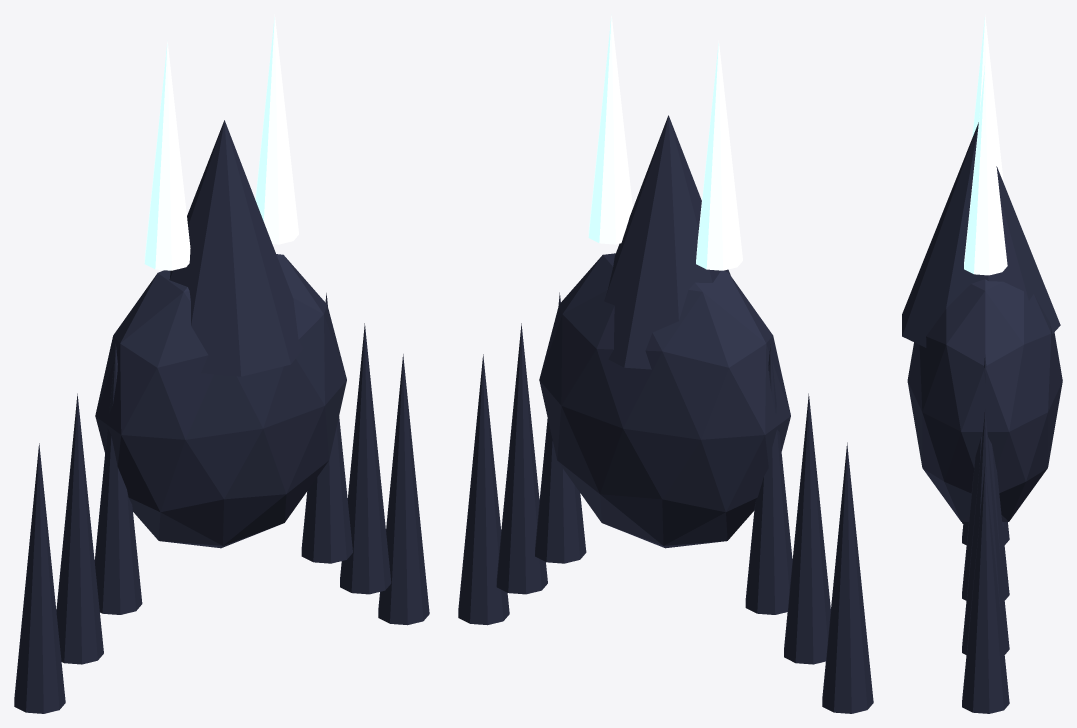
Rendered from celestial-regent-lod1.glb.
3 renders of one model, left to right at view 1: azimuth 30°, elevation 25°; view 2: azimuth 150°, elevation 25°; view 3: azimuth 270°, elevation 25°, orthographic. The views are drawn at different scales.
Visible parts, largest first — view 1: Body, Head, Claw.-1.2, Claw.-1.1, Claw.1.1, Claw.1.2, Claw.-1.0, Horn.-1, Horn.1, Claw.1.0; view 2: Body, Head, Claw.-1.2, Claw.-1.1, Claw.1.1, Claw.1.2, Claw.-1.0, Horn.-1, Horn.1, Claw.1.0; view 3: Body, Head, Claw.1.2, Horn.1, Claw.1.1, Claw.1.0, Horn.-1.
Boxes of the visible parts, x1,y1,x2,y2 form: Body: (95,254,346,548); Head: (169,120,303,376); Claw.-1.2: (14,443,65,713); Claw.-1.1: (56,393,103,664); Claw.1.1: (340,323,391,594); Claw.1.2: (378,354,429,625); Claw.-1.0: (94,344,142,614); Horn.-1: (144,41,190,270); Horn.1: (255,14,298,244); Claw.1.0: (301,293,352,563); Body: (539,253,790,548); Head: (604,115,730,369); Claw.-1.2: (822,442,873,713); Claw.-1.1: (784,393,830,664); Claw.1.1: (496,323,547,594); Claw.1.2: (458,354,509,625); Claw.-1.0: (745,344,792,614); Horn.-1: (696,40,742,270); Horn.1: (588,15,632,244); Claw.1.0: (535,292,586,563); Body: (907,279,1062,521); Head: (902,122,1060,347); Claw.1.2: (962,463,1009,713); Horn.1: (964,62,1007,275); Claw.1.1: (962,409,1009,654); Claw.1.0: (962,354,1009,600); Horn.-1: (972,14,1003,182).
Size of the model in its own units: 3.52 by 5.2 by 1.3.
